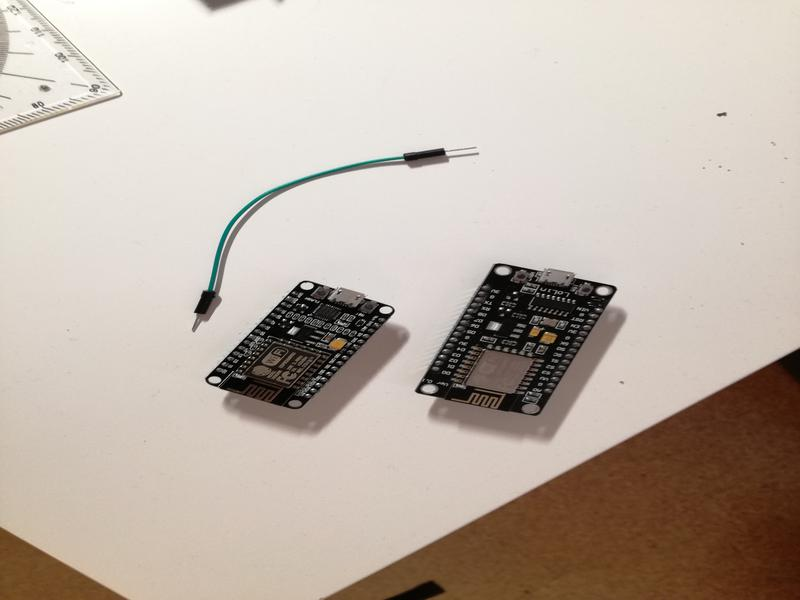ESP8266: (412, 261, 619, 422), (201, 279, 397, 414)
